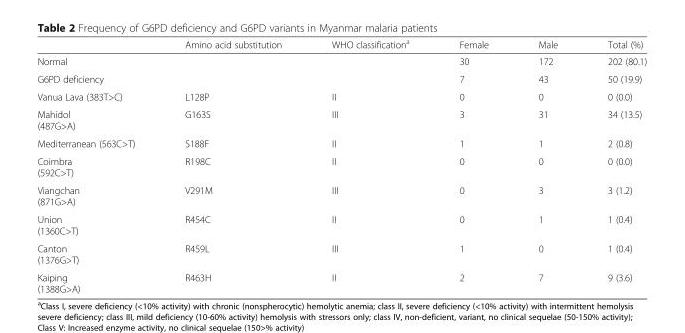table: (36, 37, 646, 294)
table column: (159, 37, 306, 294), (306, 37, 433, 294), (36, 37, 159, 294), (433, 37, 512, 294), (512, 37, 582, 294), (582, 37, 646, 294)
table column header: (36, 37, 646, 52)
table row: (36, 180, 646, 210), (36, 105, 646, 134), (36, 151, 646, 180), (36, 210, 646, 239), (36, 239, 646, 268), (36, 268, 646, 294), (36, 69, 646, 87), (36, 87, 646, 105), (36, 52, 646, 69), (36, 134, 646, 151), (36, 37, 646, 52)
